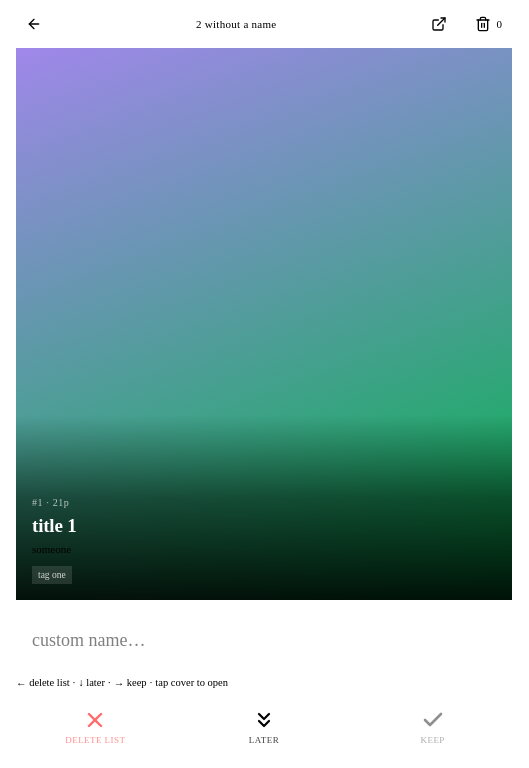
Test: SwipeDeck › puts a title back on top when its name could not be saved
Type "Keep me" into the field labelled "custom name…" at (264, 640), box [16,612,512,668]
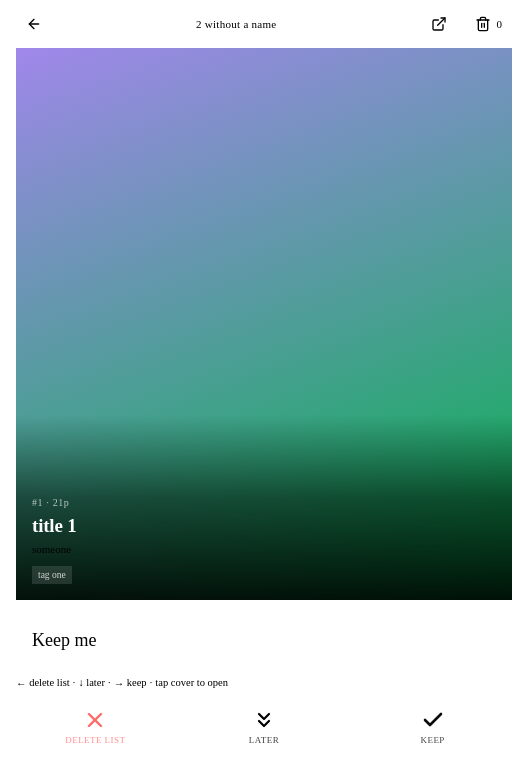
Click the button "keep" at (433, 728), box [353,700,512,756]
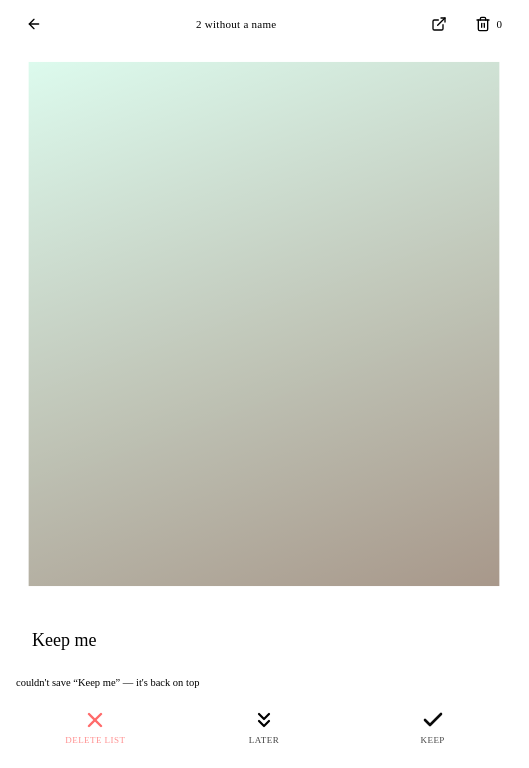
Expected: the text "couldn't save “Keep me” — it's back on top" is shown, [16,677,199,688]
